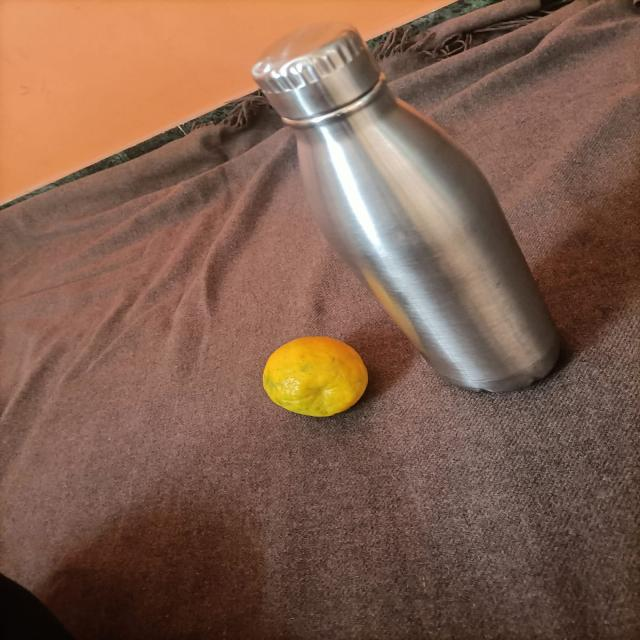bottle: (264, 0, 571, 427)
orange: (242, 330, 386, 428)
